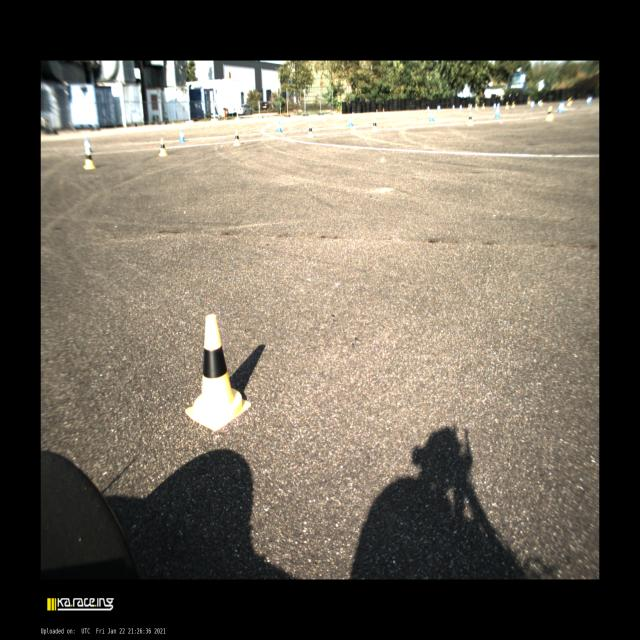blue_cone: (179, 129, 185, 141), (494, 107, 500, 118), (429, 110, 434, 122), (277, 122, 281, 132), (348, 116, 352, 126), (558, 103, 562, 113), (586, 98, 590, 105), (493, 103, 496, 110), (530, 102, 533, 108), (459, 104, 462, 110), (436, 106, 439, 111), (452, 105, 455, 110), (427, 106, 429, 112)
yellow_cone: (185, 314, 251, 432), (84, 146, 95, 168), (158, 138, 166, 156), (233, 130, 241, 146), (466, 112, 474, 126), (307, 125, 314, 138), (546, 107, 552, 121), (372, 119, 377, 133), (505, 102, 509, 110), (566, 99, 570, 106), (475, 104, 478, 110), (512, 102, 514, 108), (468, 104, 470, 110), (482, 104, 484, 109)
